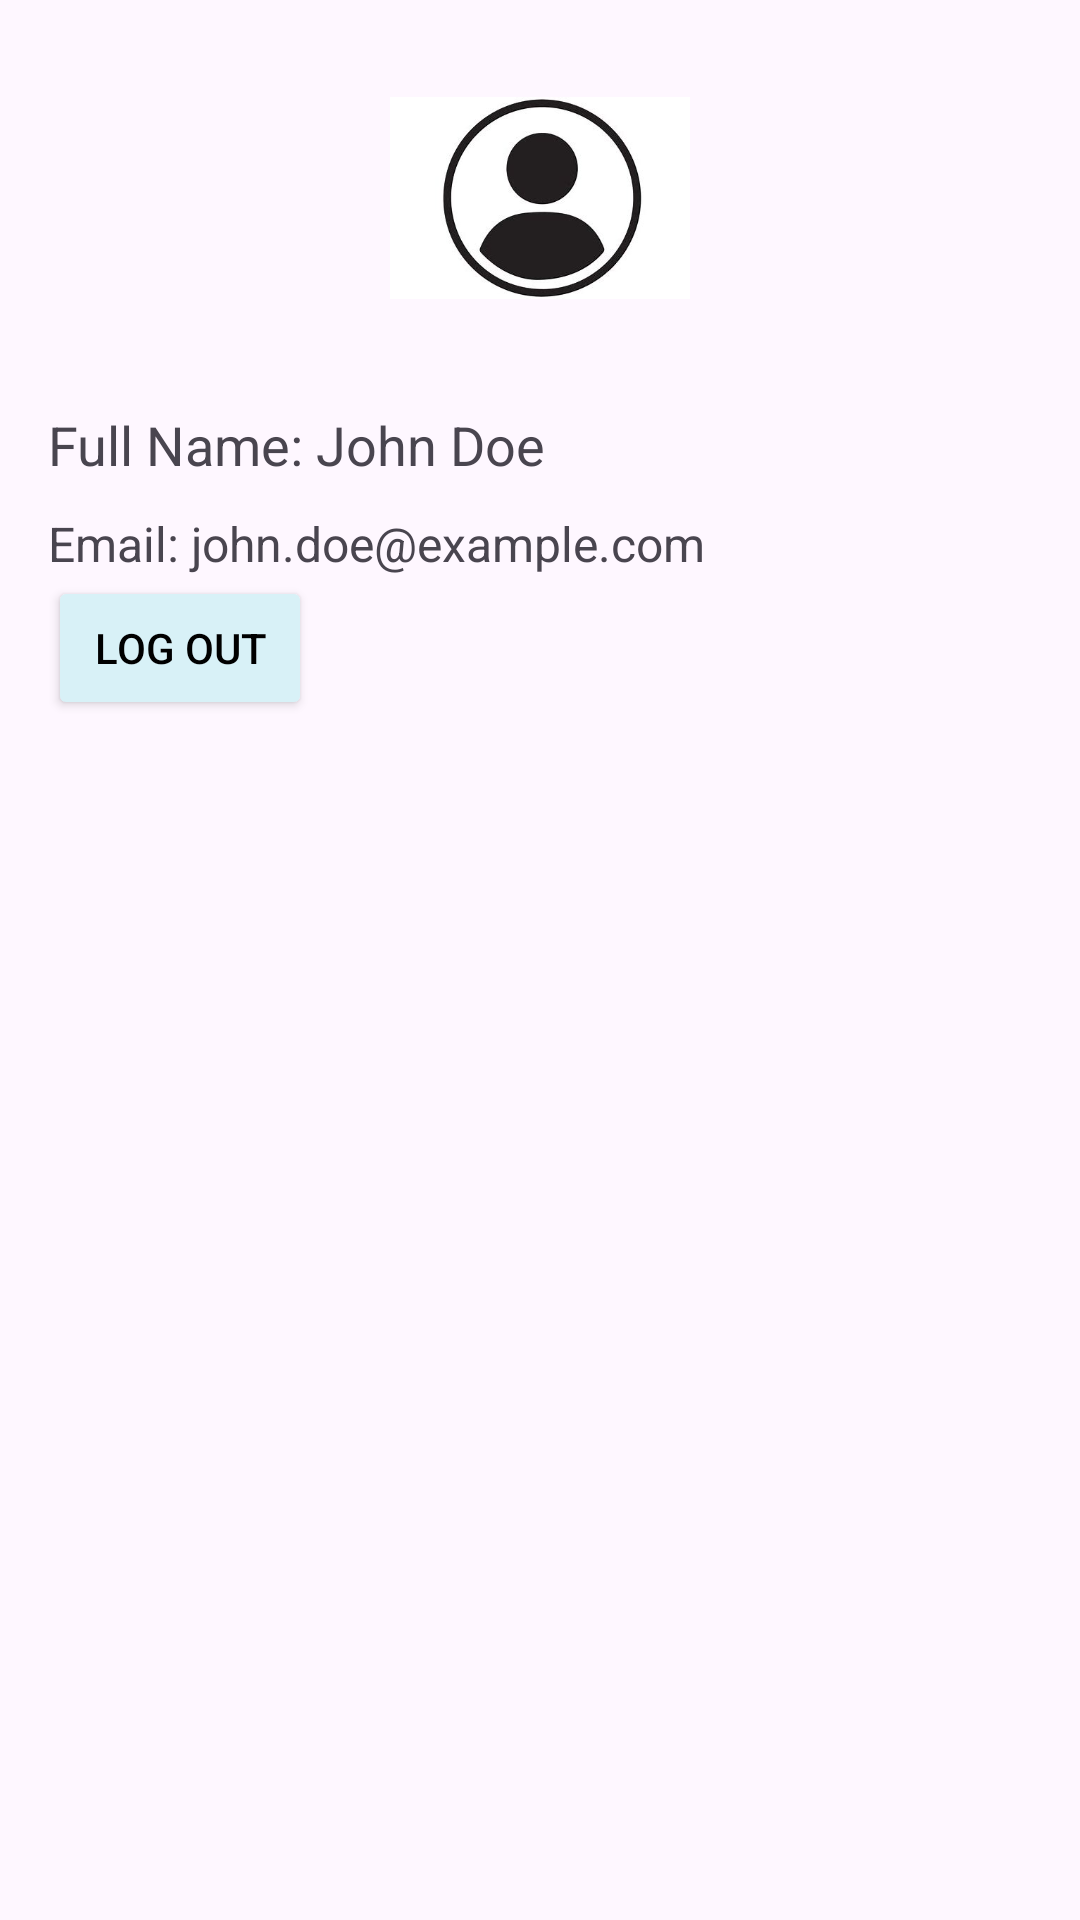

Screen size 1080px x 1920px. Icon name, then its box in pixels as (x1,y1,x2,y2):
profile: (443,99,642,297)
